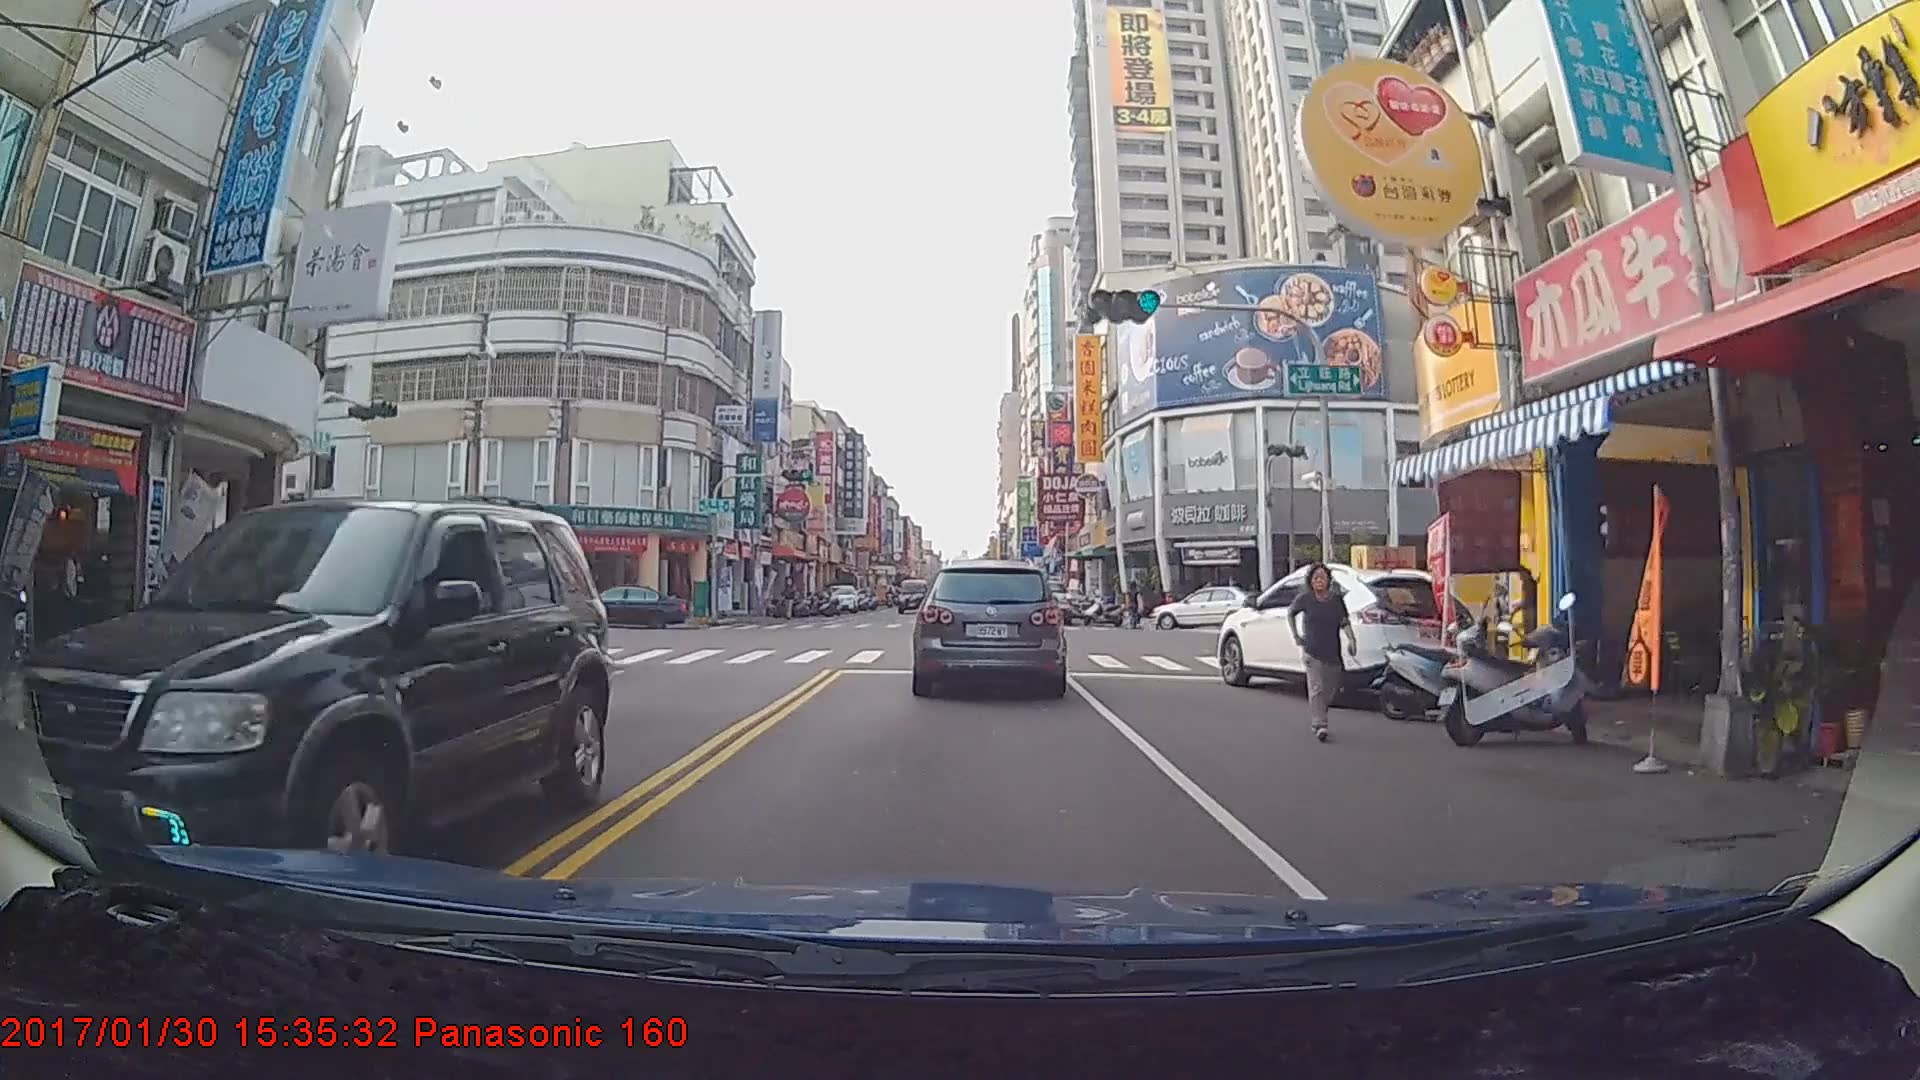pedestrian: (1294, 561, 1362, 745)
vehicle: (49, 496, 609, 910), (1216, 561, 1477, 706), (913, 558, 1063, 696), (552, 584, 687, 633), (1146, 584, 1273, 629), (894, 581, 929, 616), (820, 585, 860, 613)
